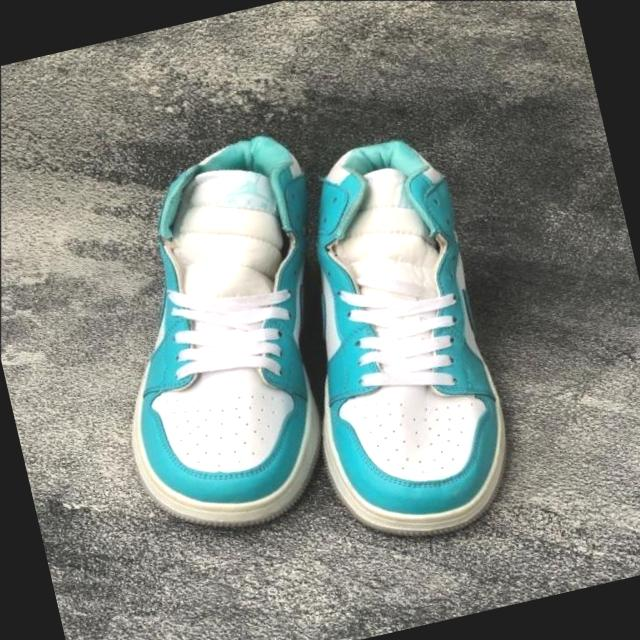nike_fake_jordan: (221, 91, 604, 582), (45, 90, 402, 566)
